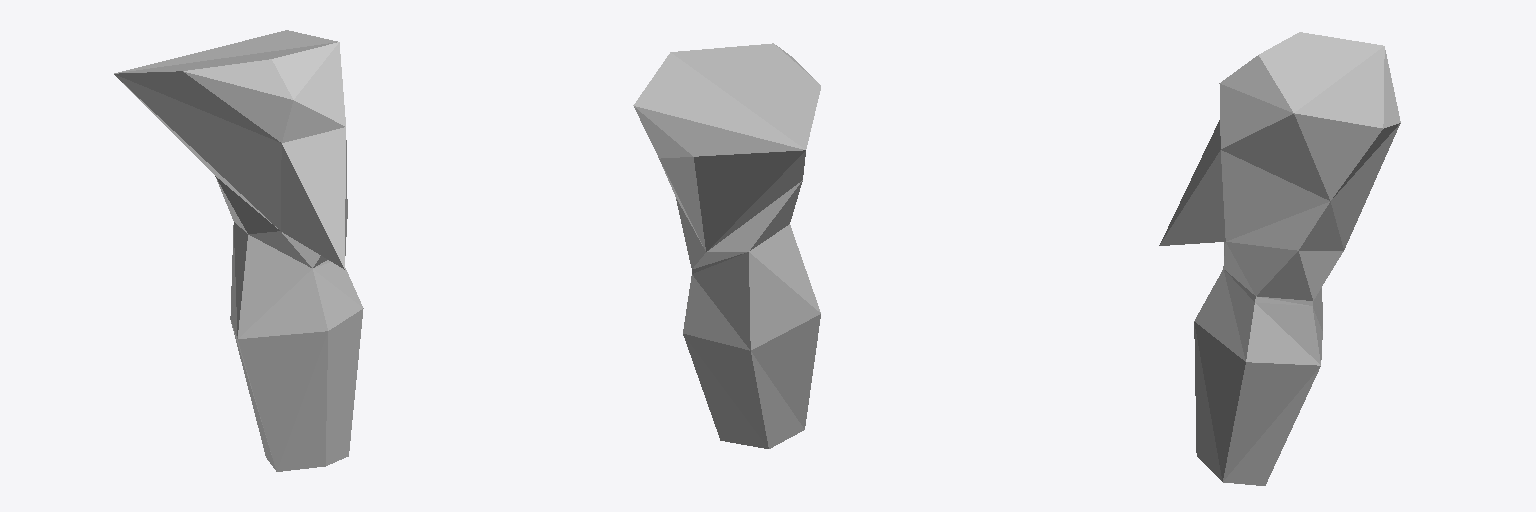
The model's file is Brazo1.obj.
3 renders of one model, left to right at view 1: azimuth 30°, elevation 25°; view 2: azimuth 150°, elevation 25°; view 3: azimuth 270°, elevation 25°, orthographic.
Visible parts, largest first — view 1: Brazo1:polySurface1pasted__ob_0601D8F8group; view 2: Brazo1:polySurface1pasted__ob_0601D8F8group; view 3: Brazo1:polySurface1pasted__ob_0601D8F8group.
Boxes of the visible parts, box(x1,y1,x2,y2) form: Brazo1:polySurface1pasted__ob_0601D8F8group: box(114, 30, 363, 471); Brazo1:polySurface1pasted__ob_0601D8F8group: box(633, 43, 820, 448); Brazo1:polySurface1pasted__ob_0601D8F8group: box(1159, 32, 1400, 485).
Size of the model in its own units: 0.2111 by 0.4535 by 0.2442.